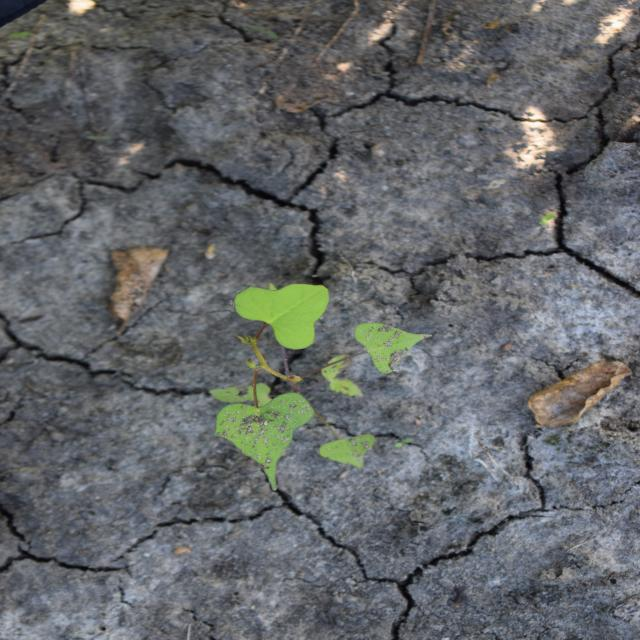MorningGlory: (204, 281, 436, 492)
